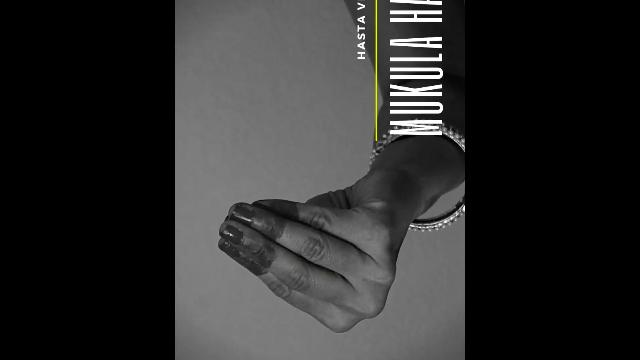mukul: (190, 149, 432, 357)
